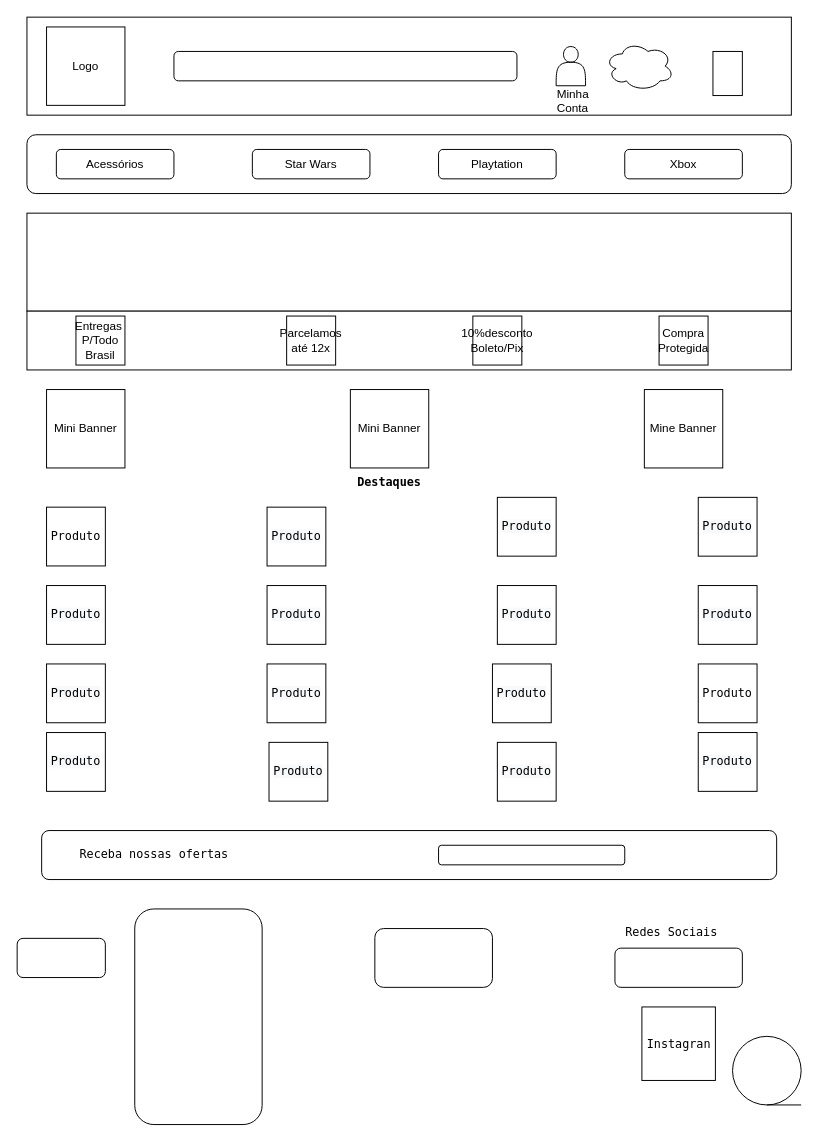
This 818x1142 diagram has some shape labels left out. The box of each missing label's shape, as (x1, y1, x2, y2) in pixels:
Banner Tarja: (26, 310, 791, 370)
Banners Rotativos: (26, 212, 791, 311)
Barra de Busca: (173, 50, 517, 81)
Digite seu e-mail: (438, 844, 625, 865)
Facebook: (614, 947, 742, 987)
Favoritos: (604, 41, 674, 91)
Horário de Atendimento: (374, 928, 492, 987)
Institucional Trocas e Devoluções Privacidade Entregas e Envios: (134, 908, 262, 1125)
Sacolinha: (712, 50, 742, 96)
Sobre Nós: (16, 937, 105, 978)
Whatsapp: (732, 1035, 801, 1105)
